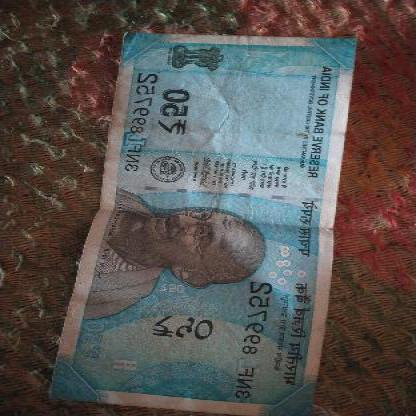New50Front: (53, 36, 348, 415)
